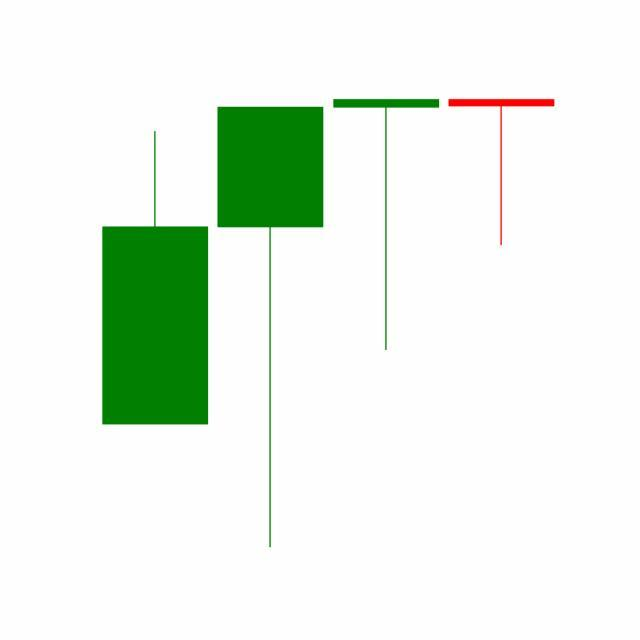Dragonfly Doji: (444, 98, 560, 248)
